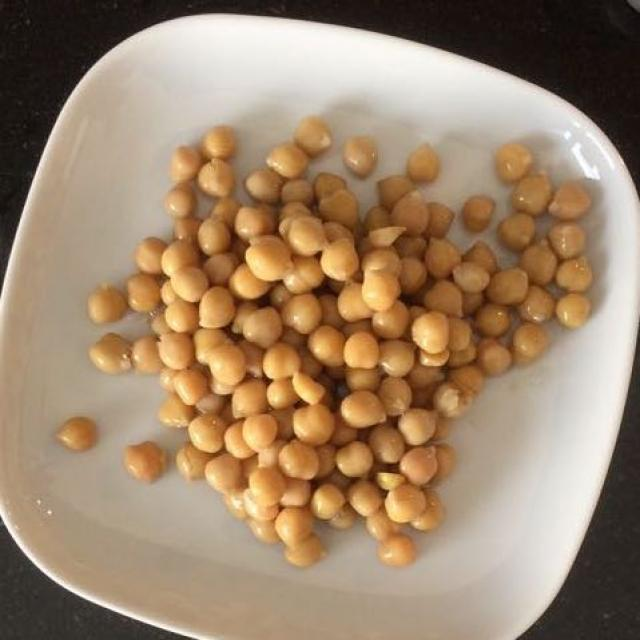chickpeas: (105, 129, 591, 551), (104, 132, 593, 548)
